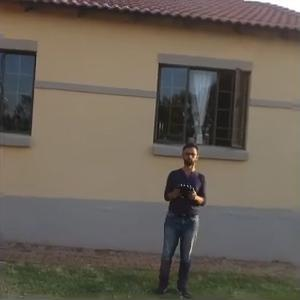follow: (151, 139, 209, 298)
